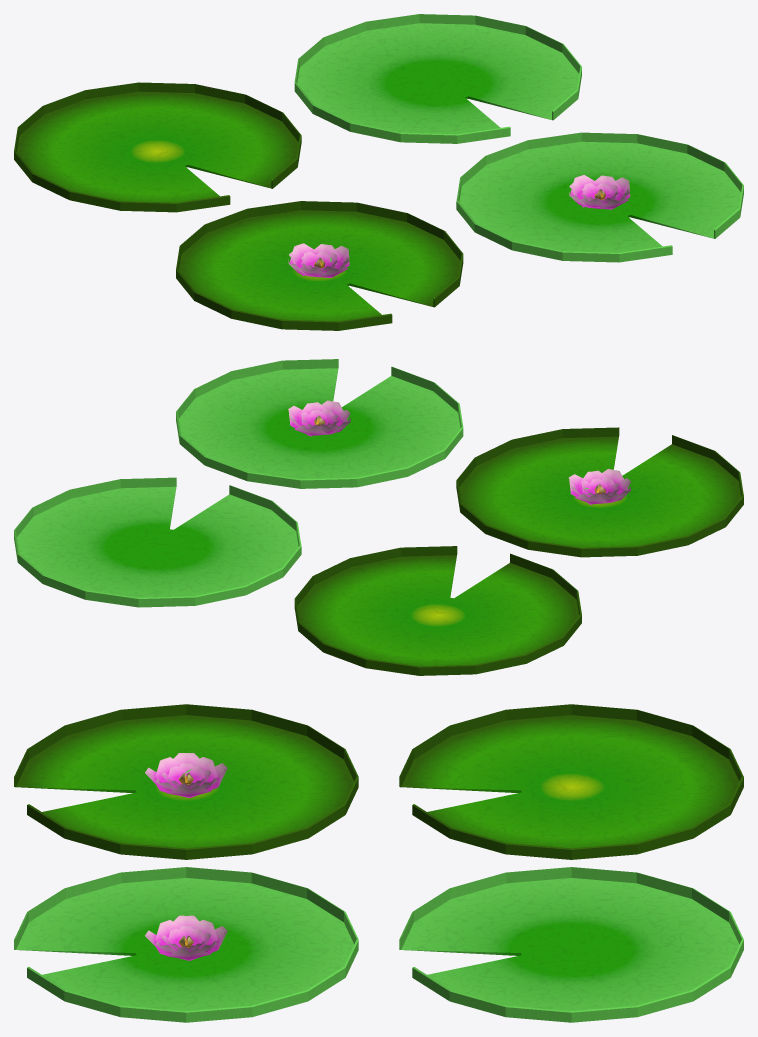
Rendered from Lilipads.glb.
3 renders of one model, top to bottom at view 1: azimuth 30°, elevation 25°; view 2: azimuth 150°, elevation 25°; view 3: azimuth 270°, elevation 25°, orthographic. The views are drawn at different scales.
Visible parts, largest first — view 1: Lilypad2_2-col, Lilypad1_2-col, Lilypad2_1-col, Lilypad1_1-col, Flower1, Flower2; view 2: Lilypad1_2-col, Lilypad2_2-col, Lilypad1_1-col, Lilypad2_1-col, Flower1, Flower2; view 3: Lilypad1_2-col, Lilypad2_2-col, Lilypad1_1-col, Lilypad2_1-col, Flower1, Flower2.
Part boxes in pixels (x1=…): Lilypad2_2-col: x1=14, y1=82, x2=301, y2=212; Lilypad1_2-col: x1=294, y1=14, x2=581, y2=143; Lilypad2_1-col: x1=176, y1=201, x2=463, y2=330; Lilypad1_1-col: x1=456, y1=132, x2=743, y2=262; Flower1: x1=569, y1=175, x2=630, y2=209; Flower2: x1=288, y1=243, x2=349, y2=277; Lilypad1_2-col: x1=14, y1=477, x2=301, y2=607; Lilypad2_2-col: x1=294, y1=546, x2=581, y2=675; Lilypad1_1-col: x1=176, y1=359, x2=463, y2=488; Lilypad2_1-col: x1=456, y1=427, x2=743, y2=557; Flower1: x1=288, y1=400, x2=350, y2=436; Flower2: x1=568, y1=469, x2=630, y2=504; Lilypad1_2-col: x1=399, y1=867, x2=743, y2=1022; Lilypad2_2-col: x1=399, y1=704, x2=743, y2=859; Lilypad1_1-col: x1=14, y1=867, x2=358, y2=1022; Lilypad2_1-col: x1=14, y1=704, x2=358, y2=859; Flower1: x1=145, y1=915, x2=227, y2=960; Flower2: x1=145, y1=753, x2=227, y2=797.
Bounding box in the file's own units: 17.06 × 0.5492 × 17.06.
Materials: 2 (2 with a texture image).
